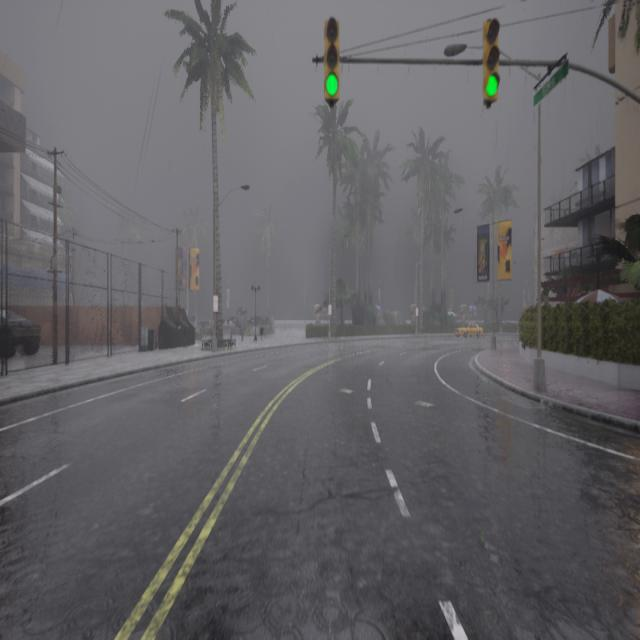9: (320, 14, 344, 110), (484, 18, 504, 107)
bien_hieu_lenh: (323, 69, 341, 101), (485, 69, 499, 101)
